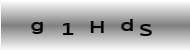1: (59, 22, 75, 36)
H: (89, 19, 104, 35)
S: (139, 22, 152, 37)
d: (120, 18, 133, 32)
g: (29, 21, 44, 35)
